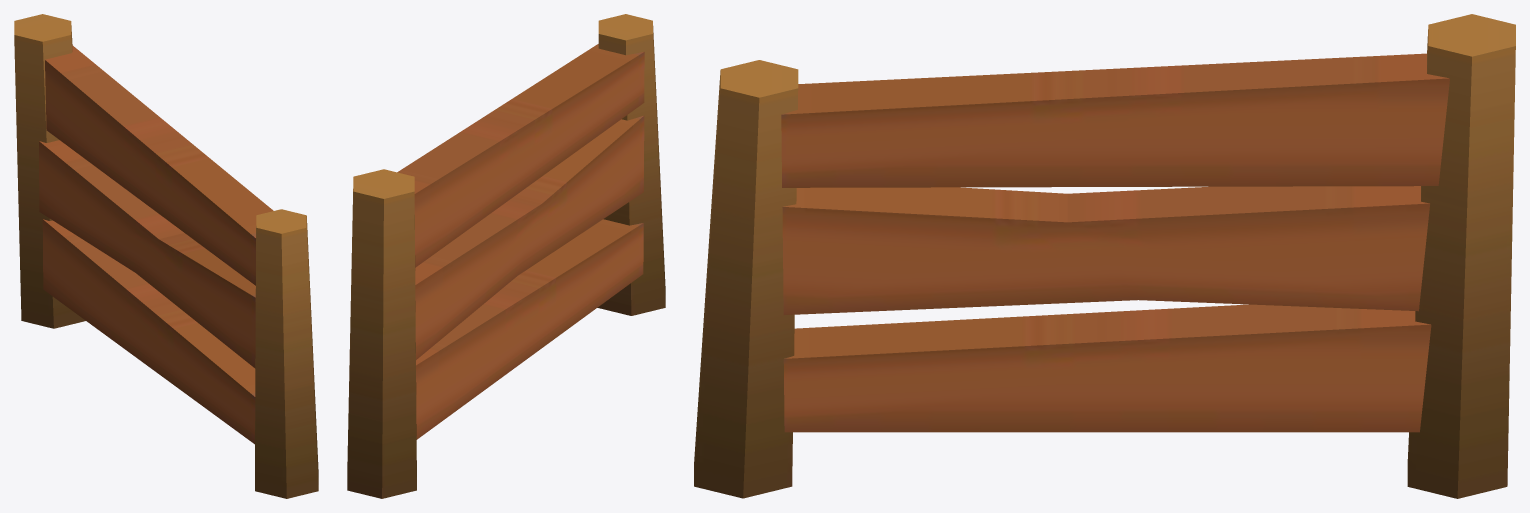
File: Fence_04.fbx
The picture shows the model from 3 angles, left to right: view 1: azimuth 30°, elevation 25°; view 2: azimuth 150°, elevation 25°; view 3: azimuth 270°, elevation 25°; orthographic projection. The views are drawn at different scales.
Parts seen in each view (by area): view 1: pCube39; view 2: pCube39; view 3: pCube39.
Part boxes in pixels (x1,y1,x2,y2): pCube39: [14, 14, 318, 498]; pCube39: [347, 14, 665, 498]; pCube39: [694, 14, 1515, 498].
Size of the model in its own units: 0.1876 by 0.7516 by 1.29.
